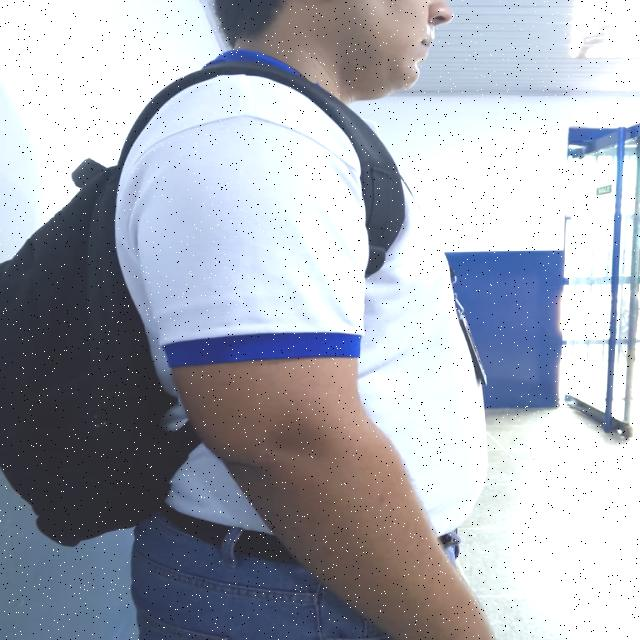uniforme_superior: (112, 48, 490, 542)
